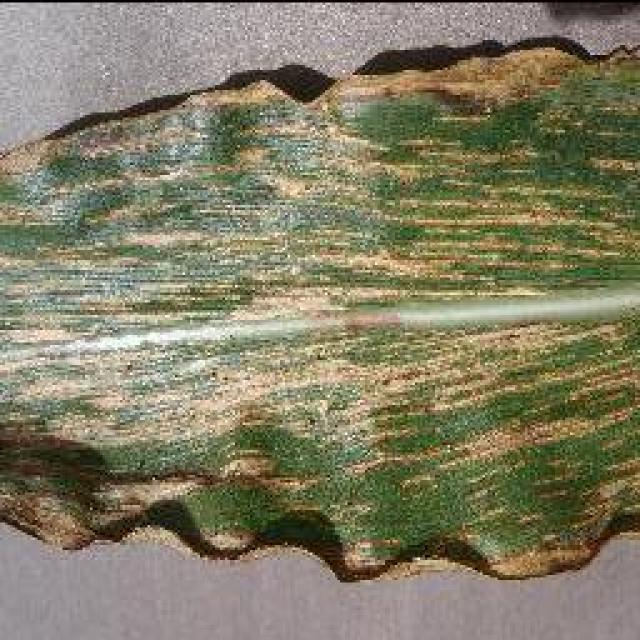Corn_Grey_Leaf_Spot: (25, 90, 640, 502)
